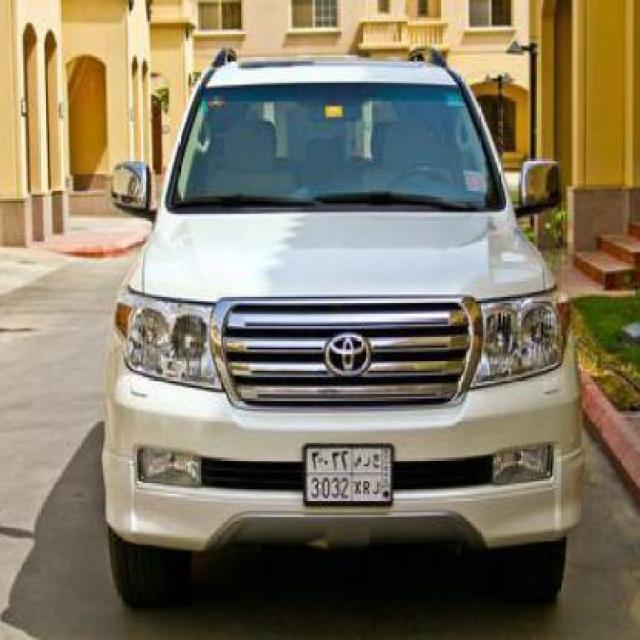license_plate: (302, 442, 395, 508)
